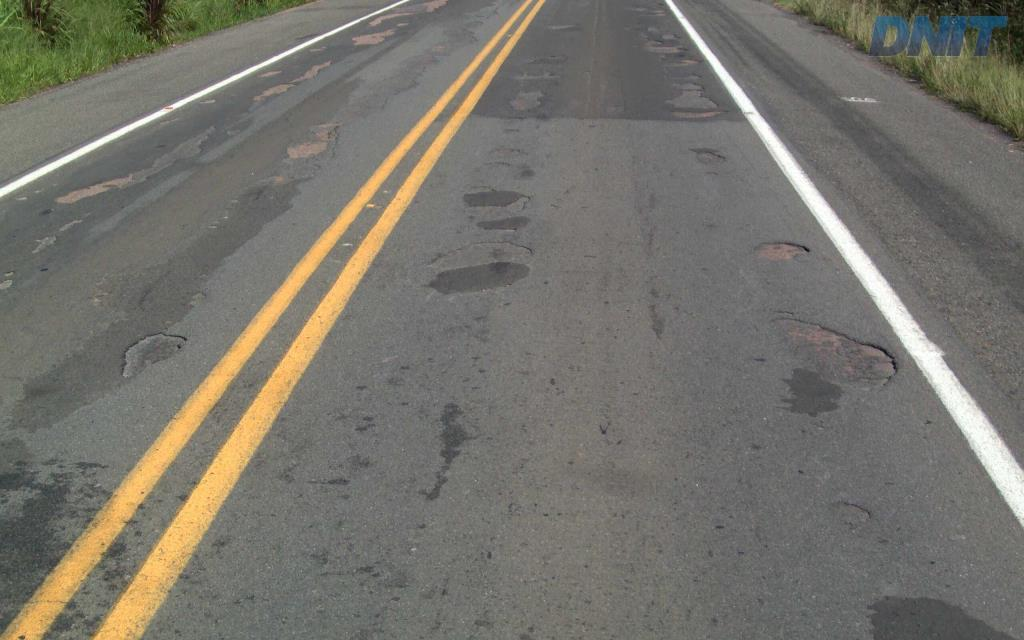pothole: (768, 315, 903, 397), (424, 235, 541, 275), (662, 79, 725, 119), (746, 235, 813, 263), (686, 142, 728, 164), (644, 39, 690, 55)
